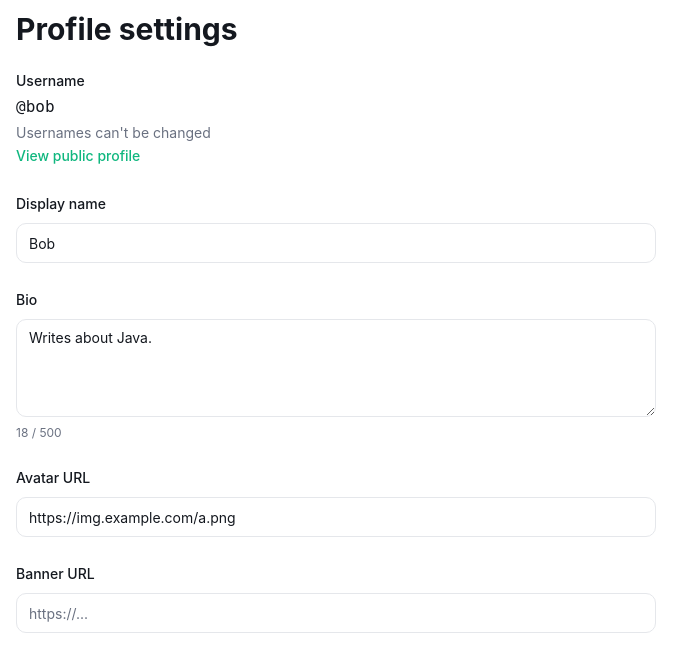
Test case: client validation › 6: the bio counter follows the text
Check: the text "18 / 500" is shown, box x1=16 y1=425 x2=62 y2=440
Replace the text in the text box labelled "Bio" with "abc": (336, 368) x1=16 y1=319 x2=656 y2=417
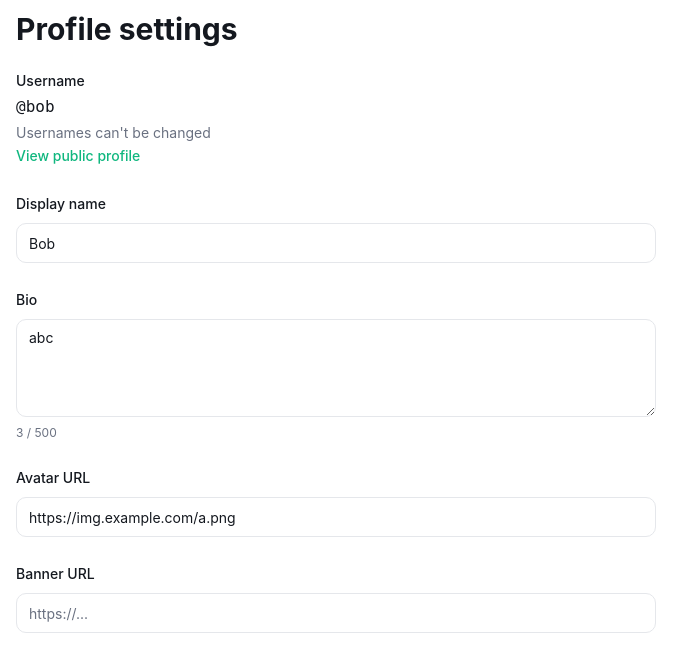
Check: the text "3 / 500" is shown, box x1=16 y1=425 x2=57 y2=440
